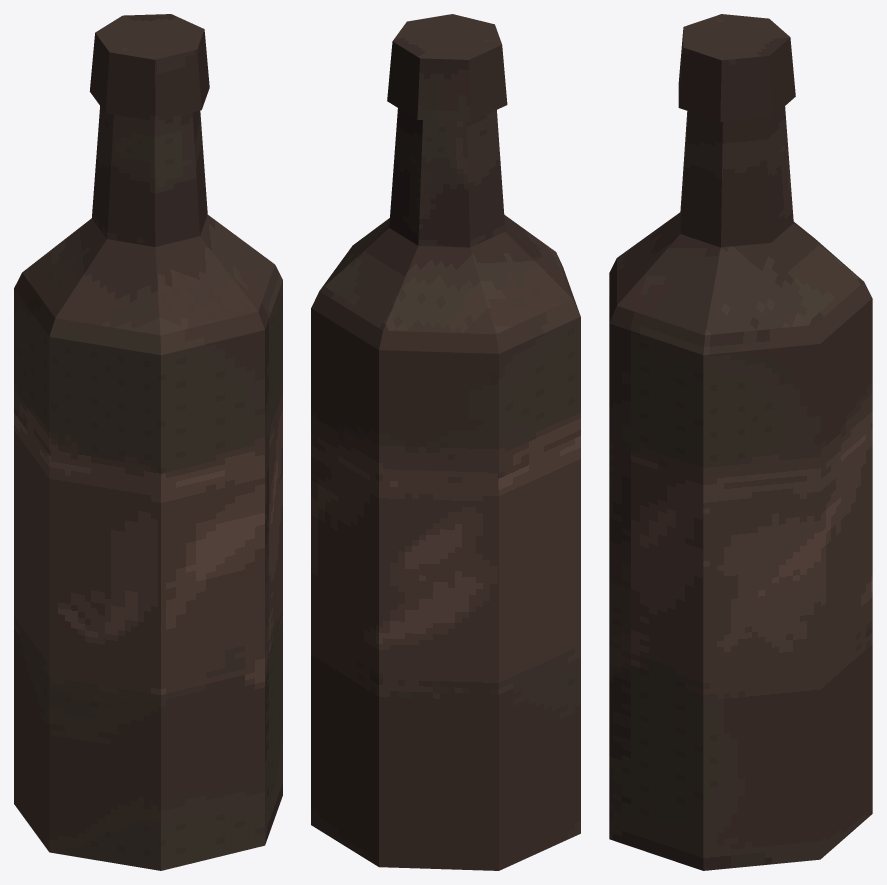
File: glassModel.glb
3 views of the same model, side by side, from view 1: azimuth 30°, elevation 25°; view 2: azimuth 150°, elevation 25°; view 3: azimuth 270°, elevation 25° (orthographic).
Visible parts, largest first — view 1: Cylinder; view 2: Cylinder; view 3: Cylinder.
Boxes of the visible parts, x1,y1,x2,y2 form: Cylinder: [14, 14, 282, 870]; Cylinder: [311, 14, 580, 870]; Cylinder: [609, 14, 872, 870].
Size of the model in its own units: 0.1552 by 0.4929 by 0.1513.
Materials: 1 (1 with a texture image).
